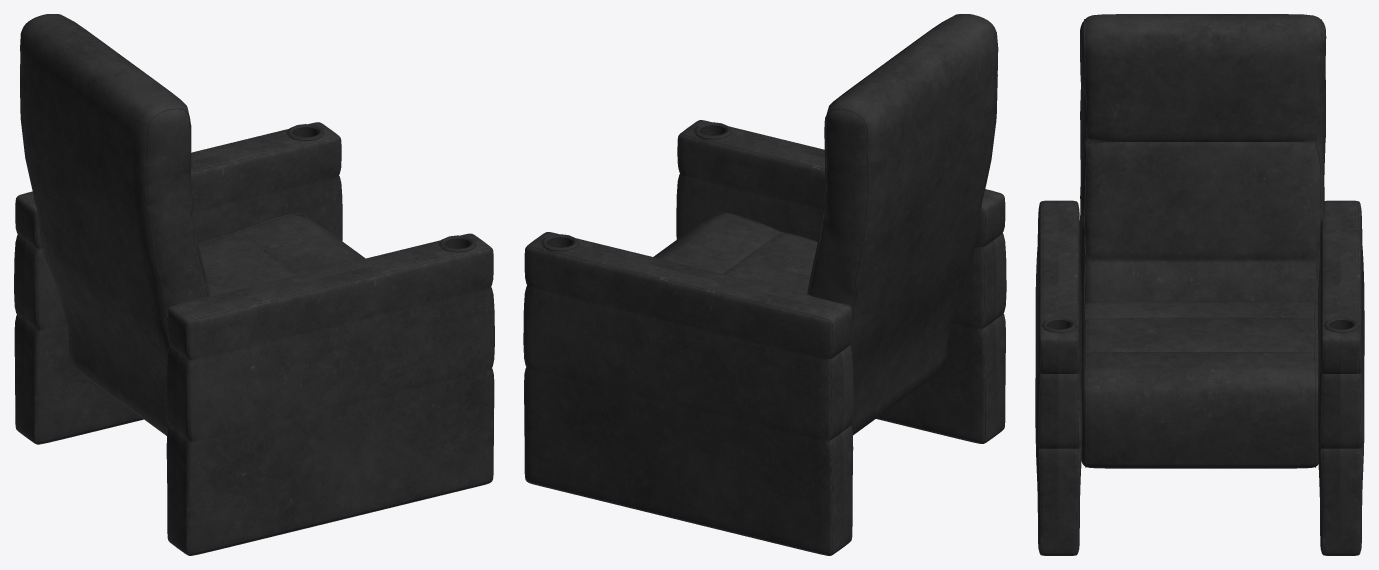
Rendered from theatre_leather_chair.fbx.
The picture shows the model from 3 angles, left to right: view 1: azimuth 30°, elevation 25°; view 2: azimuth 150°, elevation 25°; view 3: azimuth 270°, elevation 25°; orthographic projection. The views are drawn at different scales.
Parts seen in each view (by area): view 1: Cylinder.002; view 2: Cylinder.002; view 3: Cylinder.002.
Boxes of the visible parts, box(x1,y1,x2,y2) form: Cylinder.002: box(14, 14, 494, 555); Cylinder.002: box(523, 14, 1006, 555); Cylinder.002: box(1035, 14, 1364, 555).
Bounding box in the file's own units: 106 × 134 × 99.15.
